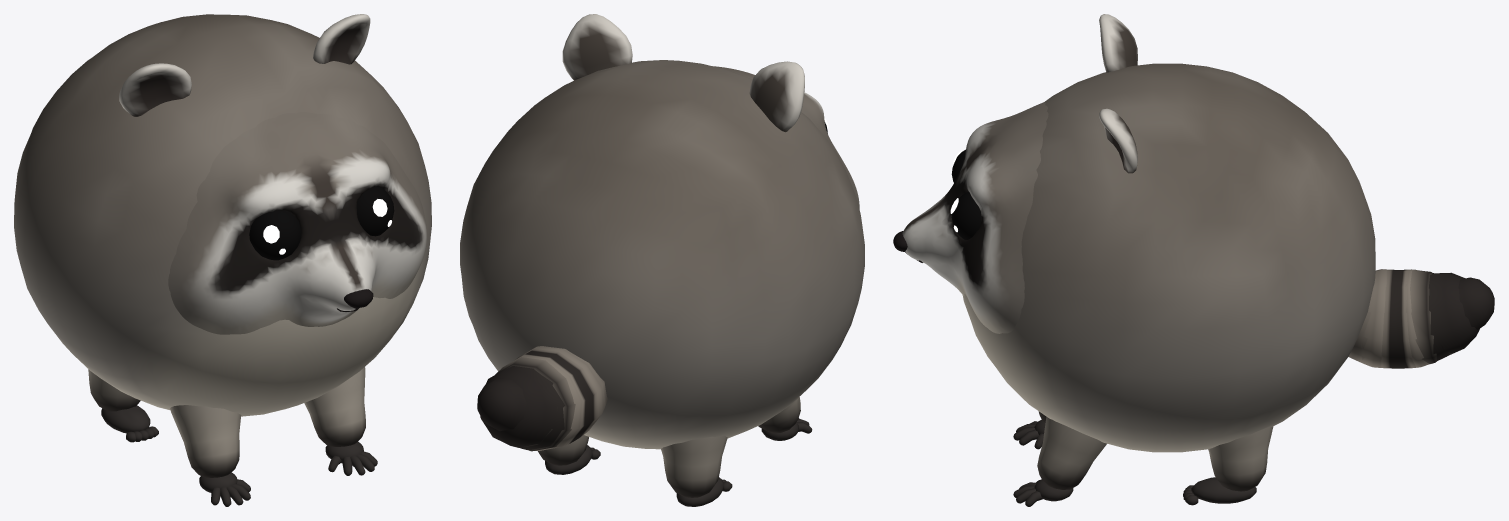
Rendered from jimothy_ball.glb.
3 views of the same model, side by side, from view 1: azimuth 30°, elevation 25°; view 2: azimuth 150°, elevation 25°; view 3: azimuth 270°, elevation 25° (orthographic). The views are drawn at different scales.
Parts seen in each view (by area): view 1: Body, Head, ArmR, ArmL, EarR, LegR, EyeR, EarL, EyeL, HandR, HandL; view 2: Body, Tail4, LegR, Tail3, EarL, EarR, Tail5, LegL, Head, Tail2, ArmR, HandR; view 3: Body, Head, Tail3, LegL, Tail4, ArmL, Tail2, EarR, Tail5, EarL, EyeL, HandL.
Part boxes in pixels (x1,y1,x2,y2): Body: [14, 14, 431, 416]; Head: [168, 112, 426, 334]; ArmR: [170, 405, 241, 477]; ArmL: [304, 367, 365, 446]; EarR: [119, 63, 191, 116]; LegR: [88, 369, 158, 442]; EyeR: [249, 210, 301, 260]; EarL: [313, 14, 370, 64]; EyeL: [356, 185, 394, 236]; HandR: [199, 472, 250, 506]; HandL: [325, 441, 377, 475]; Body: [460, 60, 864, 449]; Tail4: [480, 355, 581, 450]; LegR: [661, 435, 732, 506]; Tail3: [495, 349, 604, 451]; EarL: [562, 14, 632, 80]; EarR: [749, 61, 804, 132]; Tail5: [477, 378, 558, 447]; LegL: [538, 435, 600, 474]; Head: [712, 66, 859, 208]; Tail2: [516, 346, 607, 433]; ArmR: [758, 397, 800, 433]; HandR: [761, 418, 812, 440]; Body: [962, 63, 1375, 452]; Head: [902, 102, 1048, 333]; Tail3: [1361, 269, 1436, 368]; LegL: [1183, 426, 1273, 505]; Tail4: [1405, 269, 1479, 367]; ArmL: [1037, 416, 1106, 489]; Tail2: [1348, 269, 1387, 367]; EarR: [1099, 14, 1137, 72]; Tail5: [1435, 277, 1494, 354]; EarL: [1099, 108, 1137, 173]; EyeL: [950, 191, 981, 239]; HandL: [1013, 479, 1073, 506].
Size of the model in its own units: 0.7256 by 0.8075 by 1.09.
